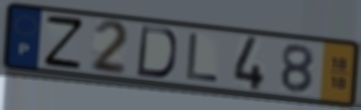2: (90, 19, 131, 77)
4: (232, 34, 267, 94)
8: (280, 42, 315, 95)
D: (134, 24, 179, 81)
L: (184, 31, 221, 85)
Z: (43, 14, 86, 70)
